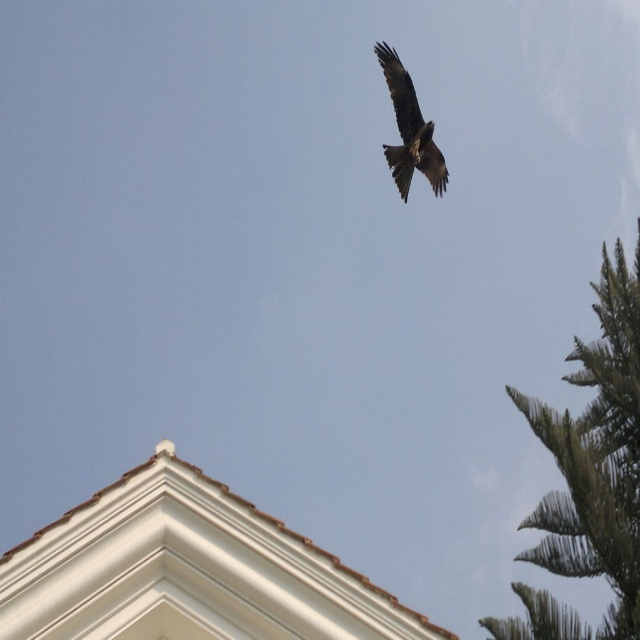Eagle: (372, 34, 451, 212)
